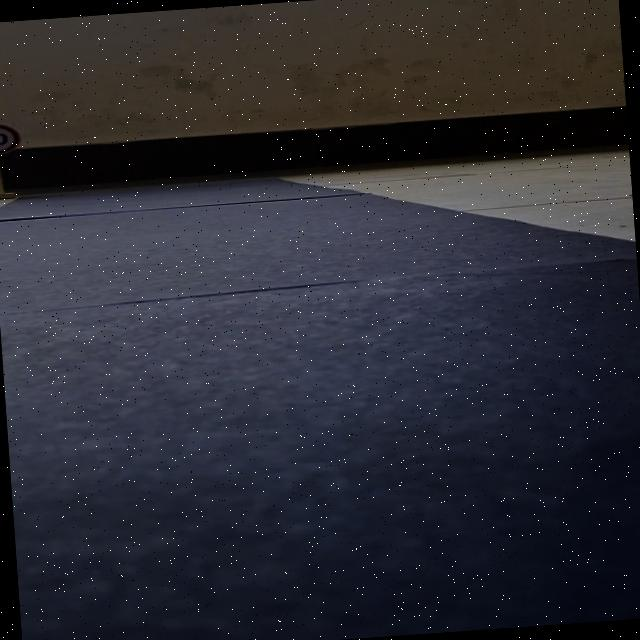Speed40: (0, 111, 33, 163)
